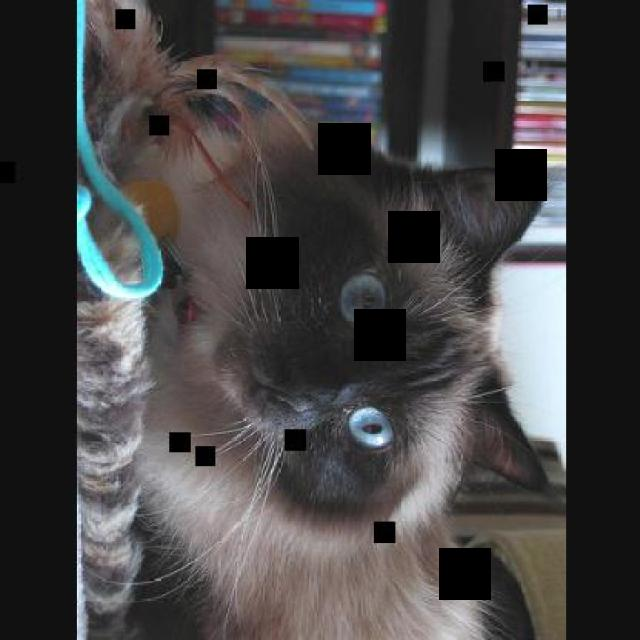unauthorized: (75, 0, 556, 638)
